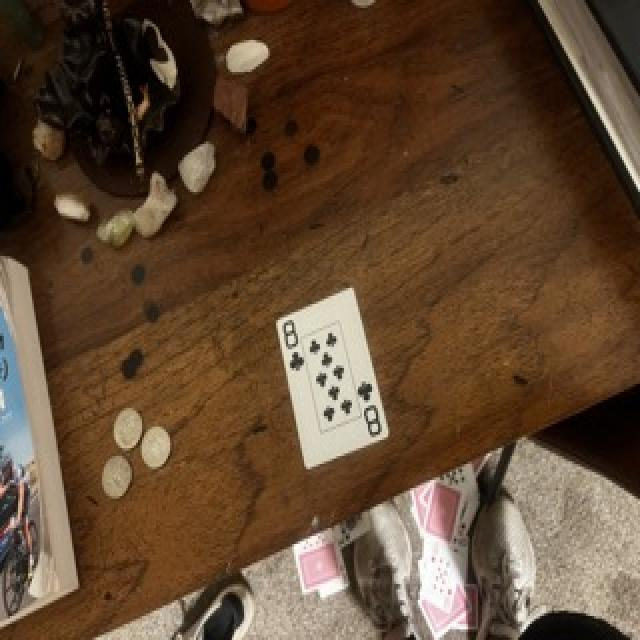8 of clubs: (276, 288, 389, 468)
